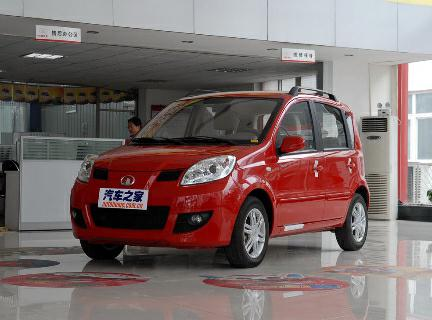长城-精灵: (65, 80, 378, 274)
